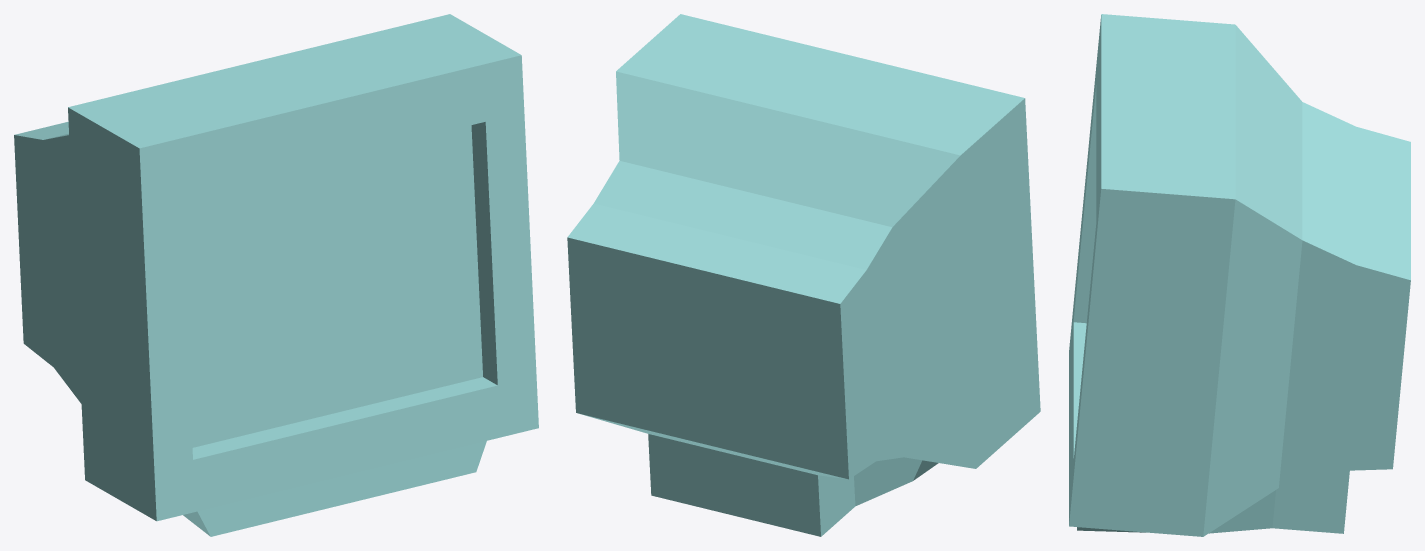
Rendered from computer.fbx.
3 renders of one model, left to right at view 1: azimuth 30°, elevation 25°; view 2: azimuth 150°, elevation 25°; view 3: azimuth 270°, elevation 25°, orthographic. The views are drawn at different scales.
Parts seen in each view (by area): view 1: computer; view 2: computer; view 3: computer.
Part boxes in pixels (left/top/right/bottom): computer: left=14, top=14, right=538, bottom=536; computer: left=567, top=14, right=1040, bottom=536; computer: left=1069, top=14, right=1410, bottom=536.
Bounding box in the file's own units: 1.74 × 1.81 × 1.44.
